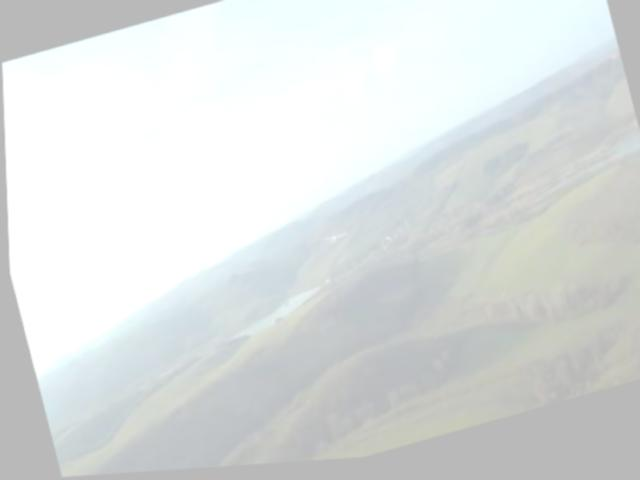iha: (321, 236, 345, 249)
